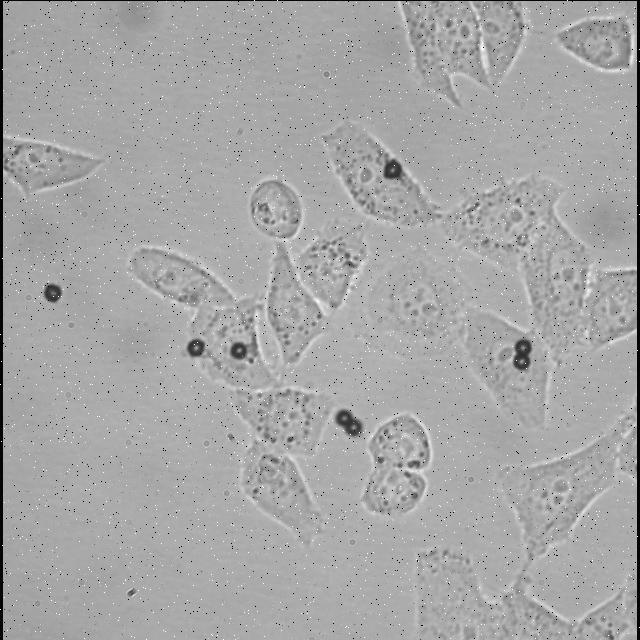microbeads: (44, 282, 66, 308), (230, 340, 253, 362), (513, 350, 535, 372), (383, 158, 402, 182), (346, 418, 366, 438), (516, 336, 534, 354), (187, 340, 205, 354)
